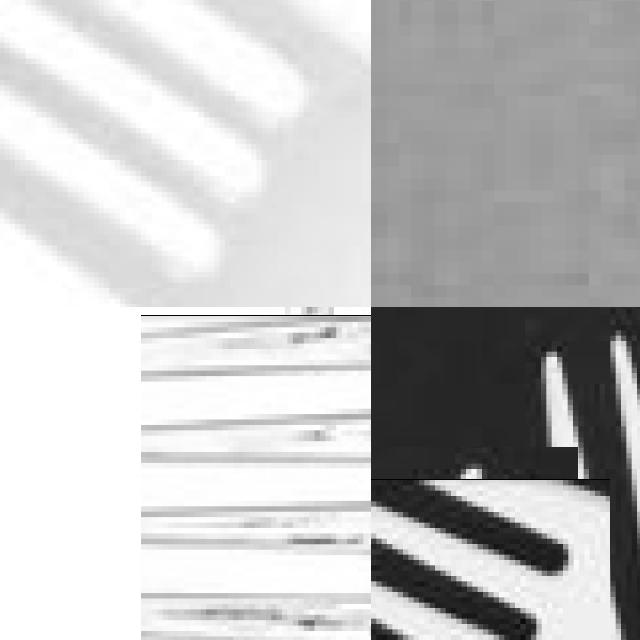forks: (0, 0, 371, 307), (213, 307, 371, 640), (371, 463, 594, 640)
